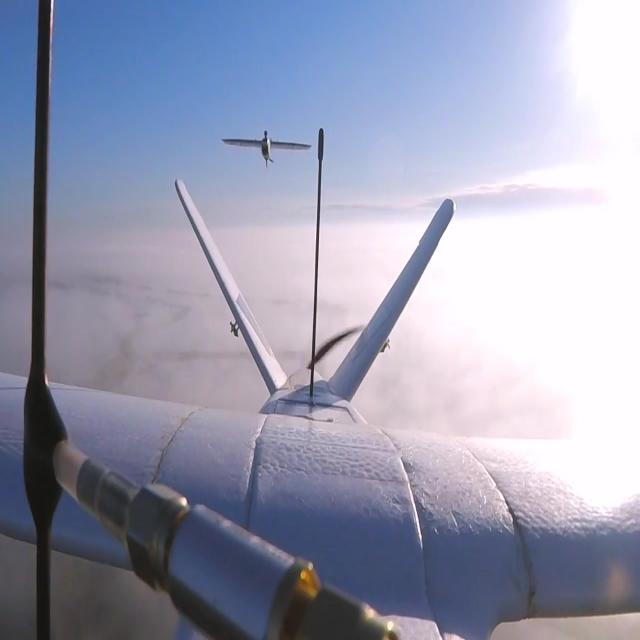iha: (0, 170, 640, 623), (245, 128, 274, 173)
